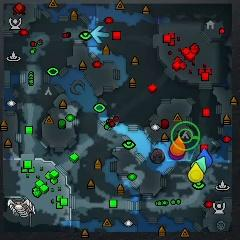p1: (197, 148, 213, 167)
p2: (191, 157, 206, 172)
p3: (169, 150, 185, 160)
p4: (188, 163, 204, 182)
p5: (171, 136, 185, 155)
x3: (91, 26, 109, 43)
